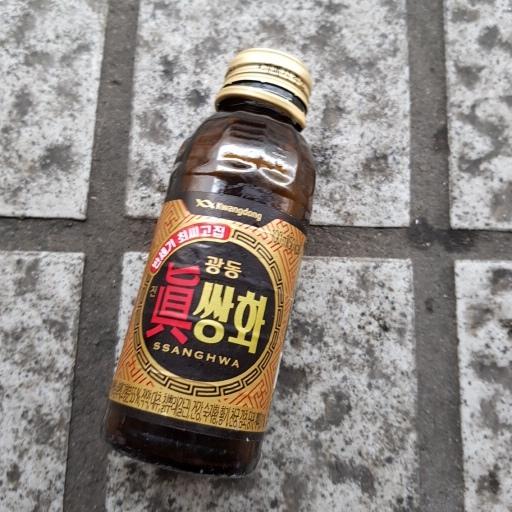Glass_3: (107, 45, 324, 490)
